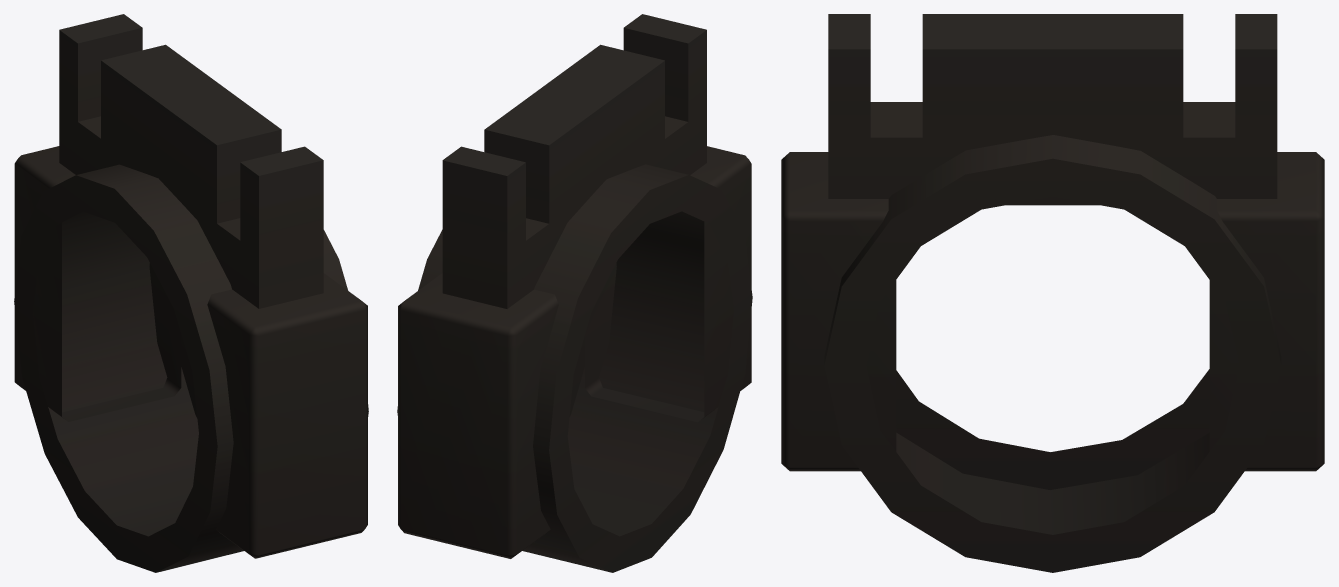
The model's file is GL1_Sight_01.fbx.
3 renders of one model, left to right at view 1: azimuth 30°, elevation 25°; view 2: azimuth 150°, elevation 25°; view 3: azimuth 270°, elevation 25°, orthographic. The views are drawn at different scales.
Parts seen in each view (by area): view 1: GL1_Sight_01; view 2: GL1_Sight_01; view 3: GL1_Sight_01.
Part boxes in pixels (x1=…): GL1_Sight_01: x1=14, y1=14, x2=368, y2=572; GL1_Sight_01: x1=397, y1=14, x2=752, y2=572; GL1_Sight_01: x1=781, y1=14, x2=1324, y2=572.
Bounding box in the file's own units: 3.4 × 9.54 × 9.39.
